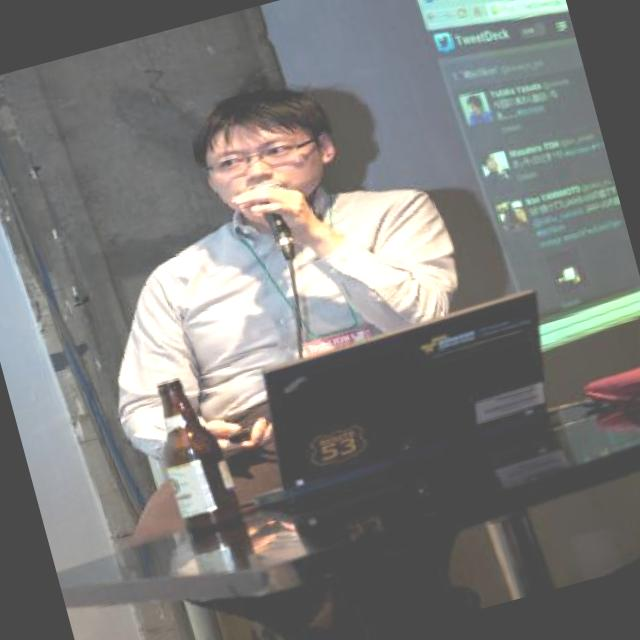Person: (49, 47, 555, 640)
